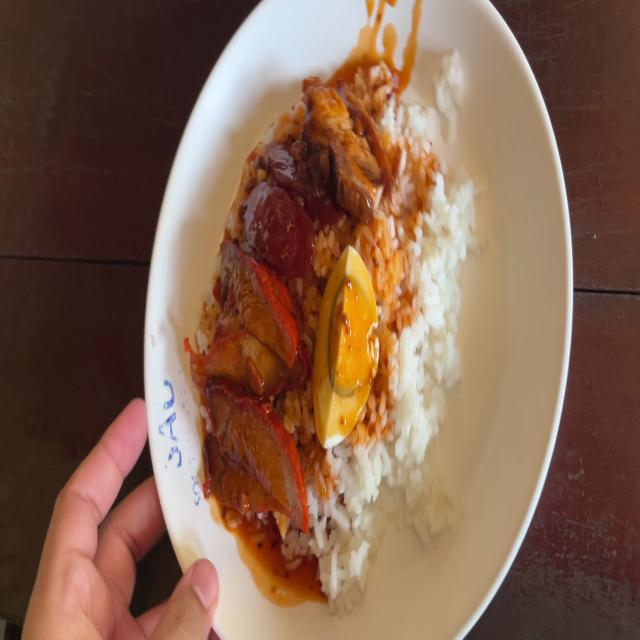red_pork_and_crispy_pork: (316, 248, 375, 453)
stir_fried_basil: (249, 140, 325, 264)
